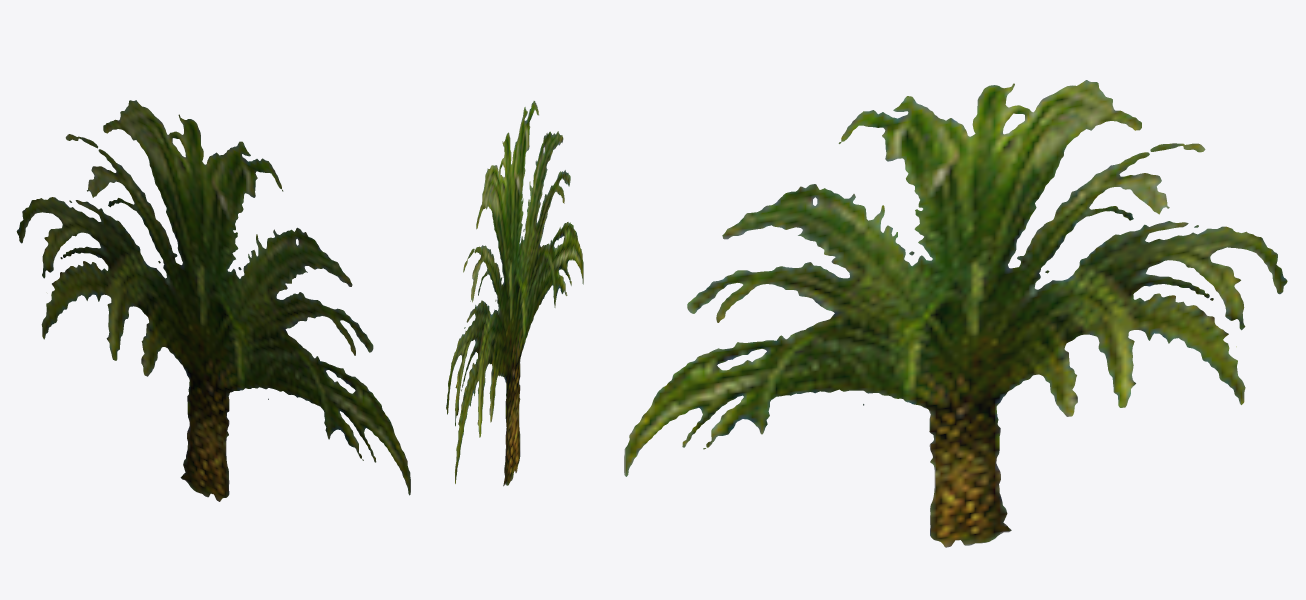
The model's file is shu.FBX.
3 renders of one model, left to right at view 1: azimuth 30°, elevation 25°; view 2: azimuth 150°, elevation 25°; view 3: azimuth 270°, elevation 25°, orthographic. The views are drawn at different scales.
Visible parts, largest first — view 1: shu001; view 2: shu001; view 3: shu001.
Boxes of the visible parts, x1,y1,x2,y2 form: shu001: (16, 100, 410, 501); shu001: (446, 101, 583, 486); shu001: (624, 80, 1287, 547).
Bounding box in the file's own units: 1.51 × 4.54 × 5.63.
1 material, 1 textured.
